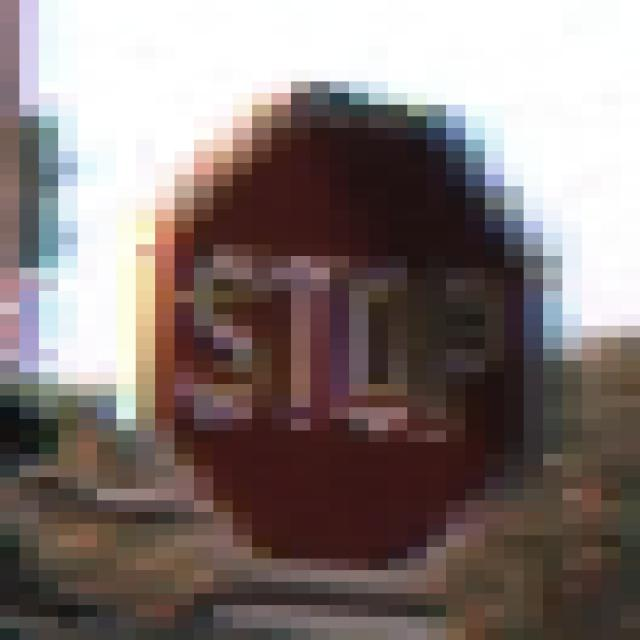STOP: (117, 71, 544, 583)
